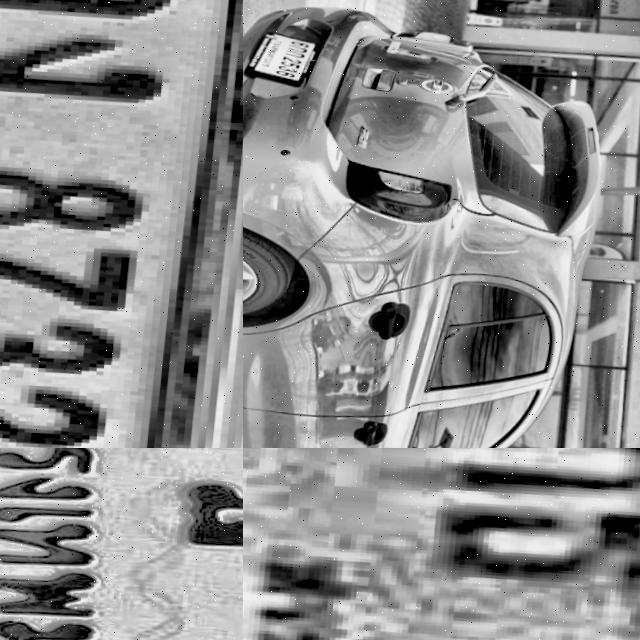license-plate: (0, 0, 243, 448), (243, 448, 640, 640), (0, 448, 243, 640), (243, 25, 328, 95)
